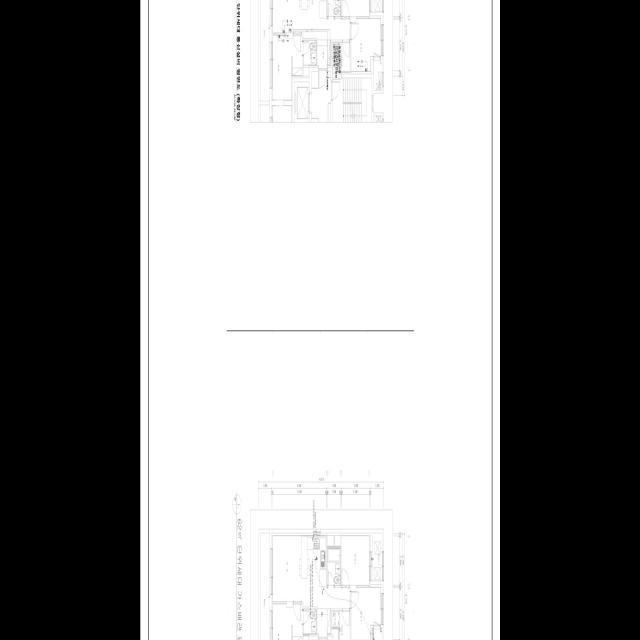background: (140, 0, 500, 640)
space_balconi: (371, 533, 382, 581), (371, 0, 382, 12)
space_bedroom: (271, 33, 302, 100), (351, 16, 382, 74), (351, 585, 382, 640), (341, 533, 370, 585), (271, 602, 302, 640), (341, 0, 370, 17)
space_elevator: (294, 82, 309, 122)
space_elevator_hall: (311, 71, 330, 122)
space_front: (317, 40, 330, 68), (317, 609, 330, 636)
space_kitchen: (299, 533, 326, 587), (300, 0, 326, 19)
space_living_room: (271, 533, 350, 609), (271, 0, 350, 40)
space_multipurpose_space: (331, 42, 350, 74), (331, 611, 350, 640)
space_other: (327, 533, 340, 546), (331, 629, 338, 640), (303, 636, 309, 640)
space_outdoor_room: (373, 60, 382, 90), (373, 629, 382, 640)
space_staircase: (332, 78, 372, 122)
space_toilet: (327, 548, 340, 586), (303, 40, 316, 78), (303, 609, 316, 636), (327, 0, 340, 17)
